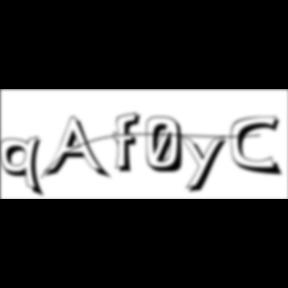0: (146, 115, 190, 174)
A: (43, 116, 112, 182)
C: (231, 115, 286, 178)
f: (114, 111, 146, 175)
q: (0, 135, 48, 200)
y: (178, 132, 232, 196)
